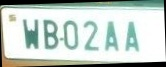character: (22, 18, 39, 49), (42, 19, 58, 49), (83, 20, 98, 50), (103, 21, 118, 51), (63, 20, 78, 49), (124, 21, 138, 52)
